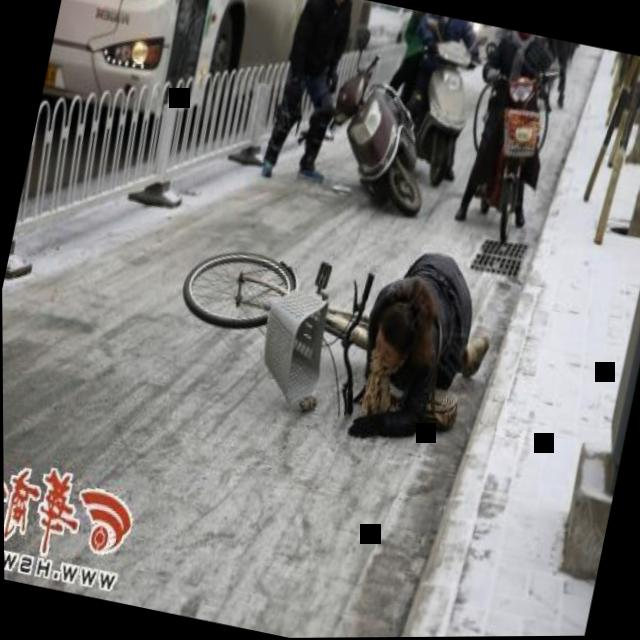Fall-Detected: (337, 209, 524, 476)
